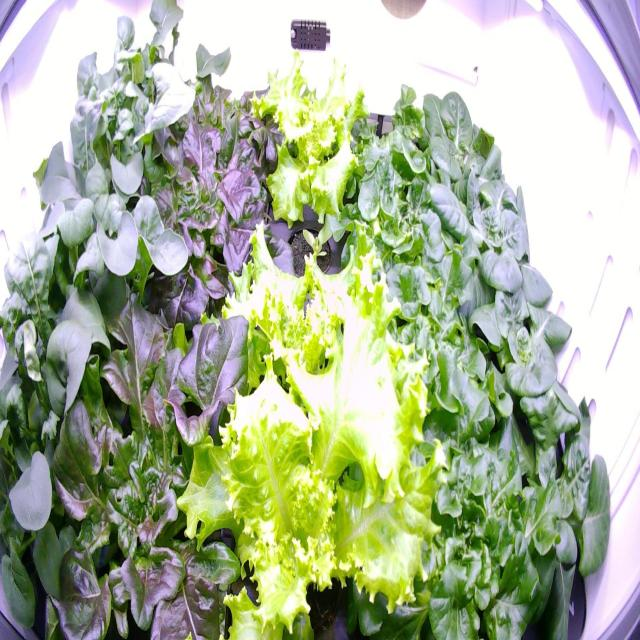young: (464, 380, 620, 640), (416, 163, 555, 333), (456, 266, 590, 438), (408, 77, 512, 205)
